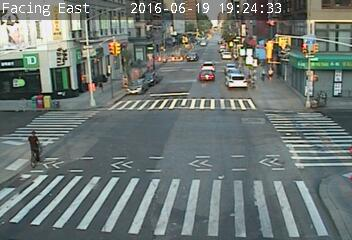neg: (156, 144, 195, 195), (21, 124, 55, 169), (172, 67, 205, 111), (223, 73, 253, 112), (207, 148, 236, 187), (35, 48, 64, 86), (308, 107, 337, 144), (265, 80, 291, 115), (116, 167, 141, 201), (72, 78, 96, 110), (311, 56, 334, 87), (194, 18, 217, 49), (287, 146, 309, 176), (249, 153, 271, 183), (47, 180, 69, 210), (301, 198, 323, 227), (281, 37, 302, 65), (240, 32, 261, 59), (135, 69, 151, 90), (115, 129, 127, 144)
